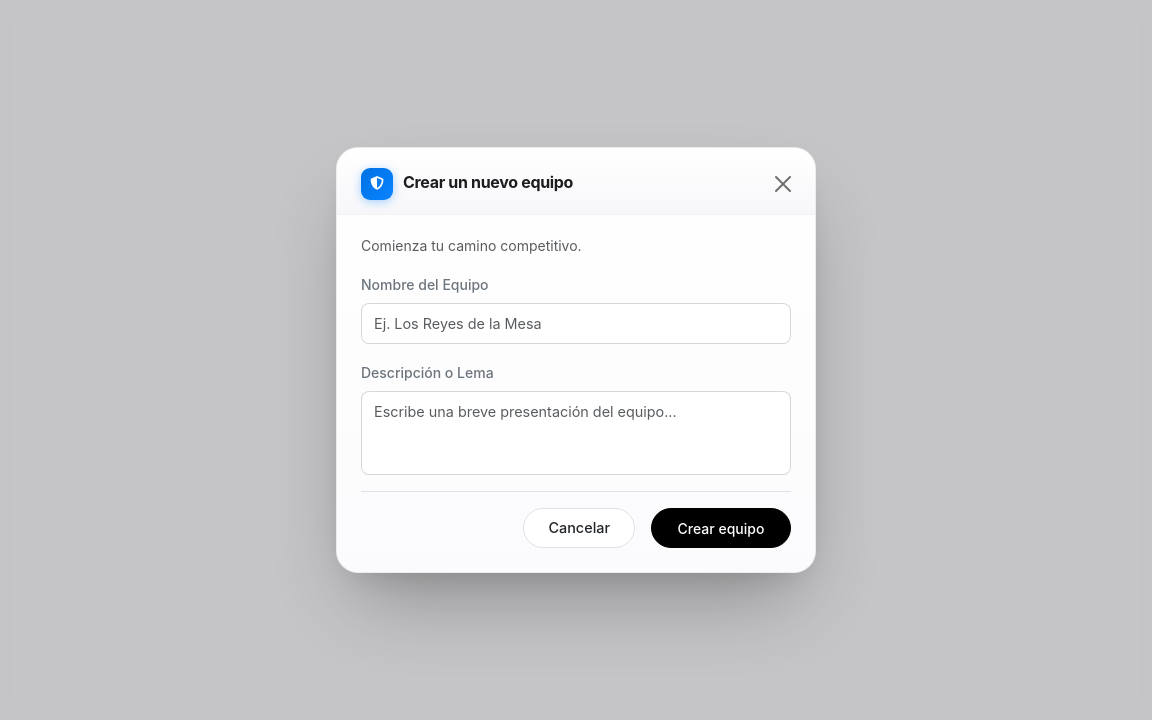
Scenario: CreateTeamModal › muestra los errores del backend y cierra la confirmacion
Step 1. Type "Los Reyes" into the field with id "teamName" → (576, 324), box left=361, top=303, right=791, bottom=344
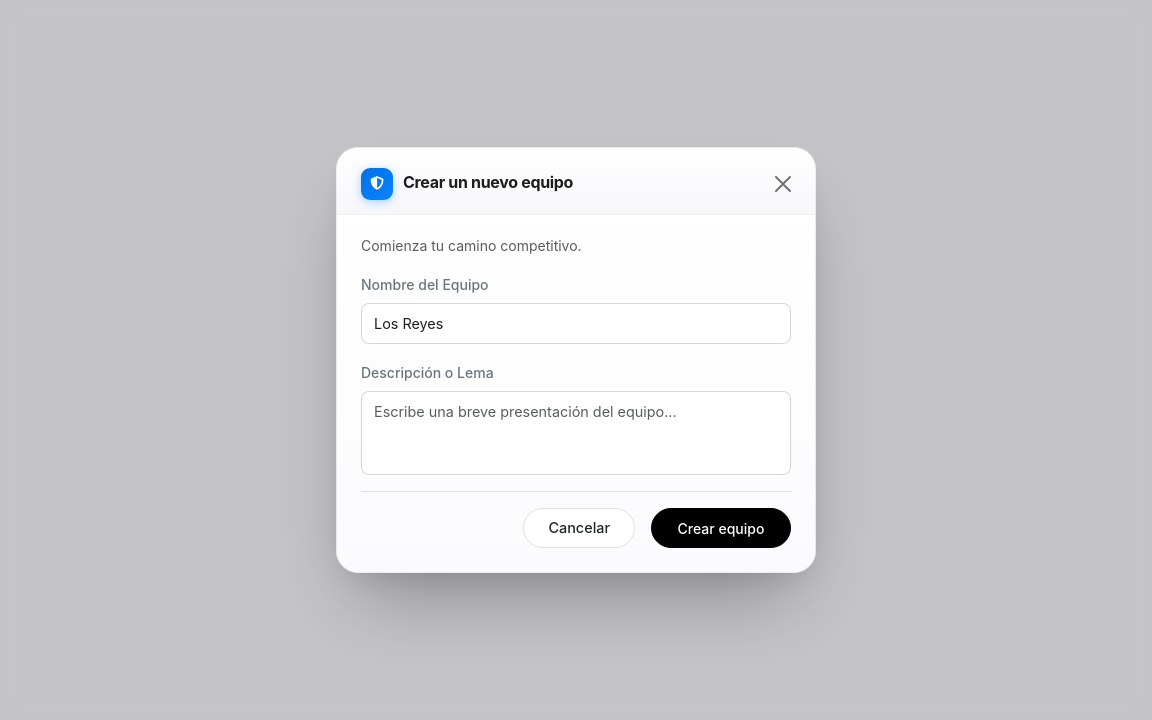
Step 2. Type "Lema de prueba" into the text box with id "teamDescription" → (576, 433), box left=361, top=391, right=791, bottom=475
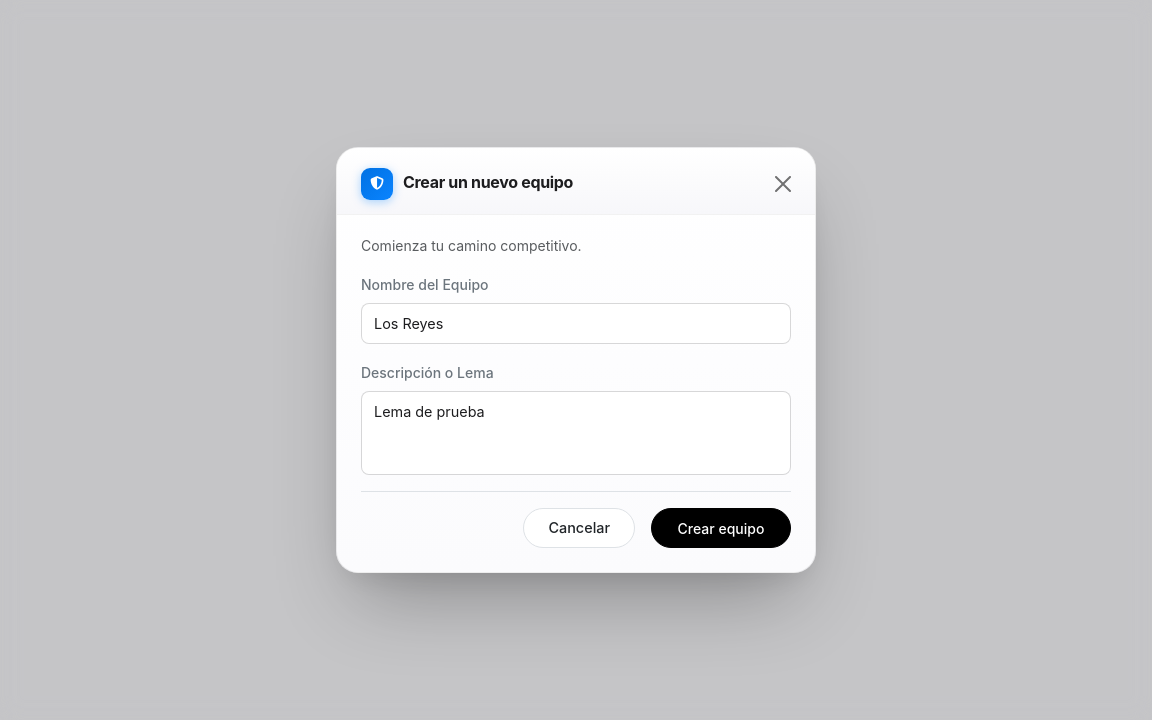
Step 3. Click the button "Crear equipo" → (721, 528), box left=651, top=508, right=791, bottom=548
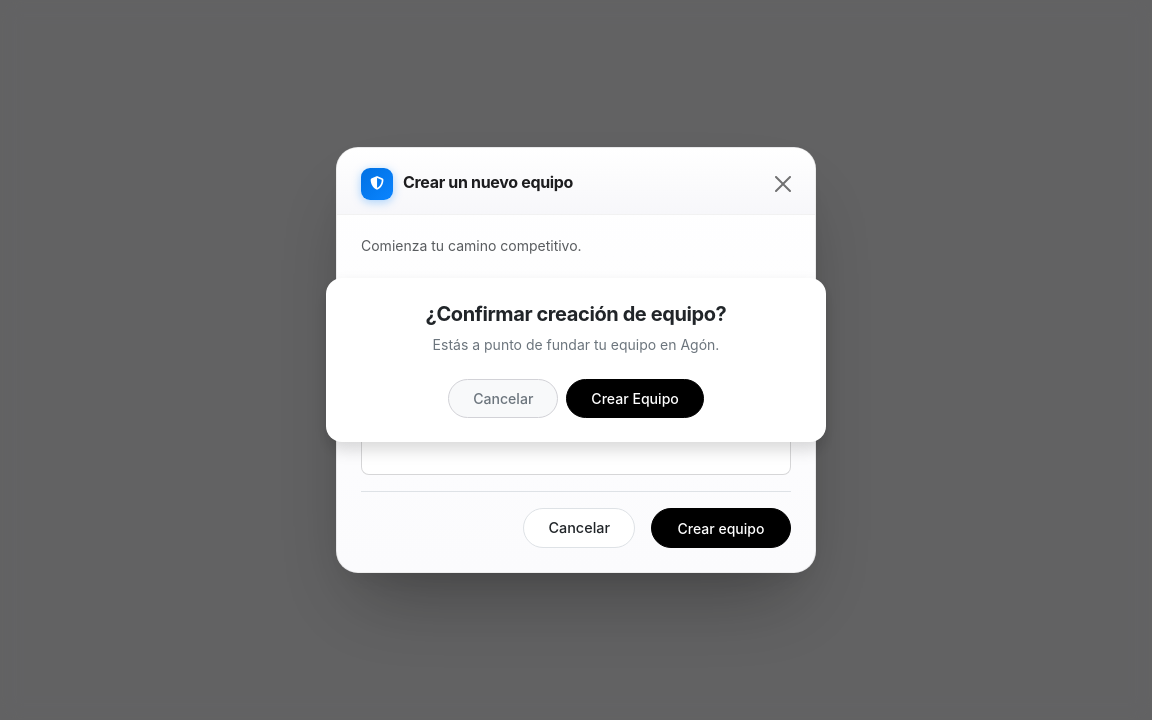
Step 4. Click the button "Crear Equipo" → (635, 398), box left=566, top=379, right=704, bottom=418
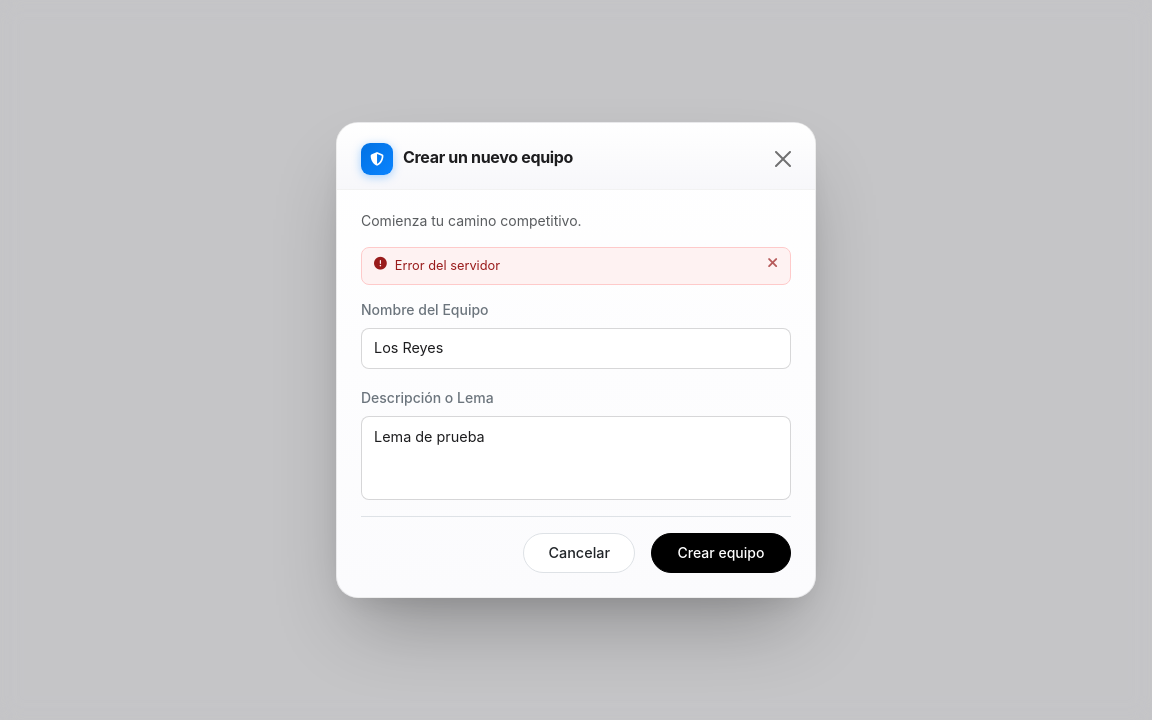
expect the text "Error del servidor" is shown: met, box left=395, top=258, right=500, bottom=273
expect the heading "¿Confirmar creación de equipo?" is gone: met
